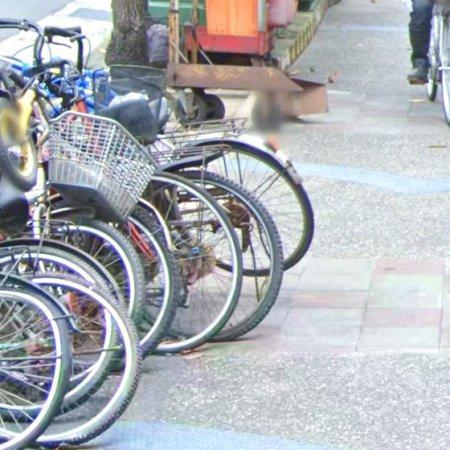bicycles: (148, 118, 315, 270), (32, 276, 142, 447)
